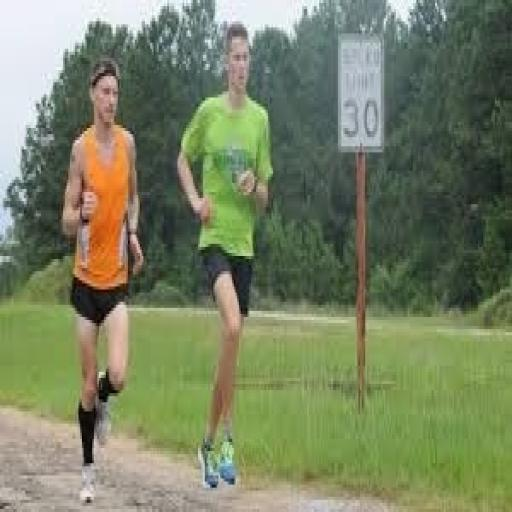running: (174, 18, 277, 494), (60, 55, 147, 506)
